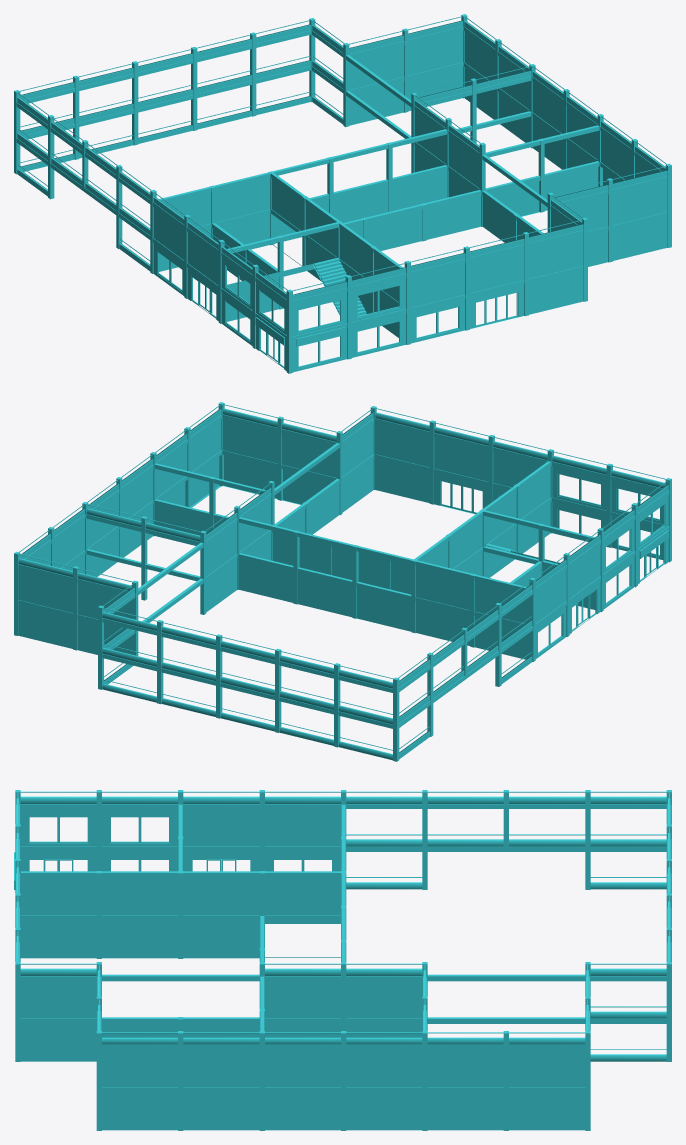
Rendered from LargeGarage_PAINT.fbx.
3 views of the same model, one above another, from view 1: azimuth 30°, elevation 25°; view 2: azimuth 150°, elevation 25°; view 3: azimuth 270°, elevation 25° (orthographic). The views are drawn at different scales.
Parts seen in each view (by area): view 1: Resolution 1.002; view 2: Resolution 1.002; view 3: Resolution 1.002.
Boxes of the visible parts, x1,y1,x2,y2 form: Resolution 1.002: (14, 14, 671, 373); Resolution 1.002: (14, 402, 671, 761); Resolution 1.002: (14, 790, 671, 1130).
Size of the model in its own units: 4277 by 800 by 4881.
